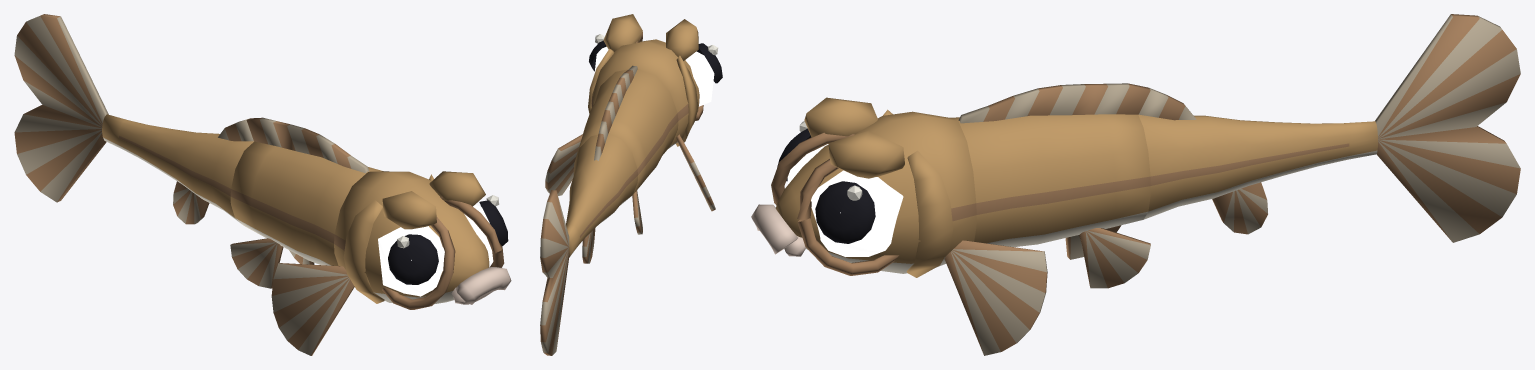
The model's file is carp-fingerling.glb.
3 views of the same model, side by side, from view 1: azimuth 30°, elevation 25°; view 2: azimuth 150°, elevation 25°; view 3: azimuth 270°, elevation 25° (orthographic). The views are drawn at different scales.
Parts seen in each view (by area): view 1: wag_body_0, carp_head, wag_body_2, wag_body_1, glide_fin_r, blink_eye_r, pulse_gill_r, blink_eye_l; view 2: wag_body_0, wag_body_1, carp_head, wag_body_2, blink_eye_r, glide_fin_l, pulse_gill_r, glide_fin_r, blink_eye_l, pulse_gill_l; view 3: wag_body_0, wag_body_2, carp_head, wag_body_1, glide_fin_l, blink_eye_l, pulse_gill_l, blink_eye_r.
Boxes of the visible parts, left/top/right/bottom form: wag_body_0: left=230, top=117, right=383, bottom=288; carp_head: left=334, top=171, right=511, bottom=309; wag_body_2: left=14, top=14, right=108, bottom=202; wag_body_1: left=102, top=114, right=253, bottom=224; glide_fin_r: left=271, top=263, right=354, bottom=355; blink_eye_r: left=378, top=226, right=444, bottom=296; pulse_gill_r: left=343, top=200, right=384, bottom=303; blink_eye_l: left=464, top=195, right=508, bottom=263; wag_body_0: left=575, top=65, right=678, bottom=234; wag_body_1: left=566, top=121, right=637, bottom=263; carp_head: left=591, top=14, right=703, bottom=148; wag_body_2: left=540, top=190, right=569, bottom=355; blink_eye_r: left=685, top=43, right=722, bottom=106; glide_fin_l: left=545, top=134, right=582, bottom=195; pulse_gill_r: left=675, top=55, right=698, bottom=146; glide_fin_r: left=676, top=134, right=715, bottom=211; blink_eye_l: left=589, top=34, right=608, bottom=72; pulse_gill_l: left=588, top=48, right=614, bottom=113; wag_body_0: left=950, top=83, right=1150, bottom=288; wag_body_2: left=1375, top=14, right=1520, bottom=242; carp_head: left=751, top=97, right=976, bottom=275; wag_body_1: left=1138, top=88, right=1377, bottom=234; glide_fin_l: left=944, top=240, right=1047, bottom=355; blink_eye_l: left=811, top=170, right=903, bottom=256; pulse_gill_l: left=906, top=150, right=953, bottom=277; blink_eye_r: left=777, top=121, right=828, bottom=184.
Bounding box in the file's own units: 0.1481 × 0.1232 × 0.3702.
